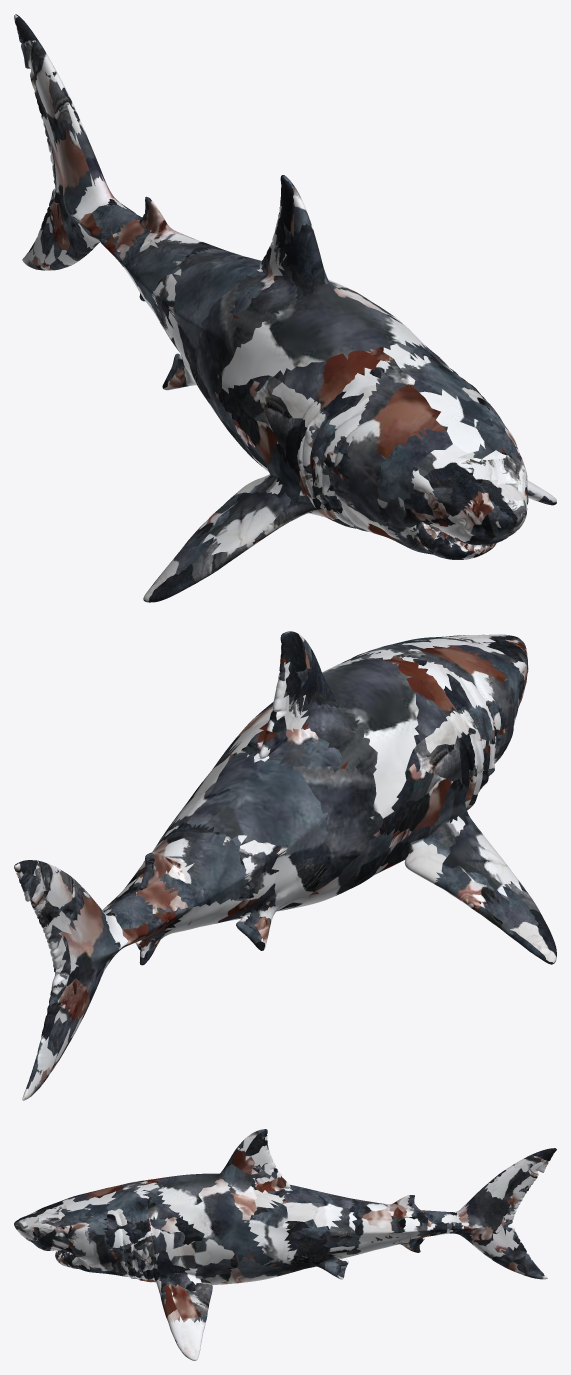
The model's file is great-white-shark.glb.
3 renders of one model, top to bottom at view 1: azimuth 30°, elevation 25°; view 2: azimuth 150°, elevation 25°; view 3: azimuth 270°, elevation 25°, orthographic. The views are drawn at different scales.
Size of the model in its own units: 2.37 by 1.81 by 5.
1 material, 1 textured.
